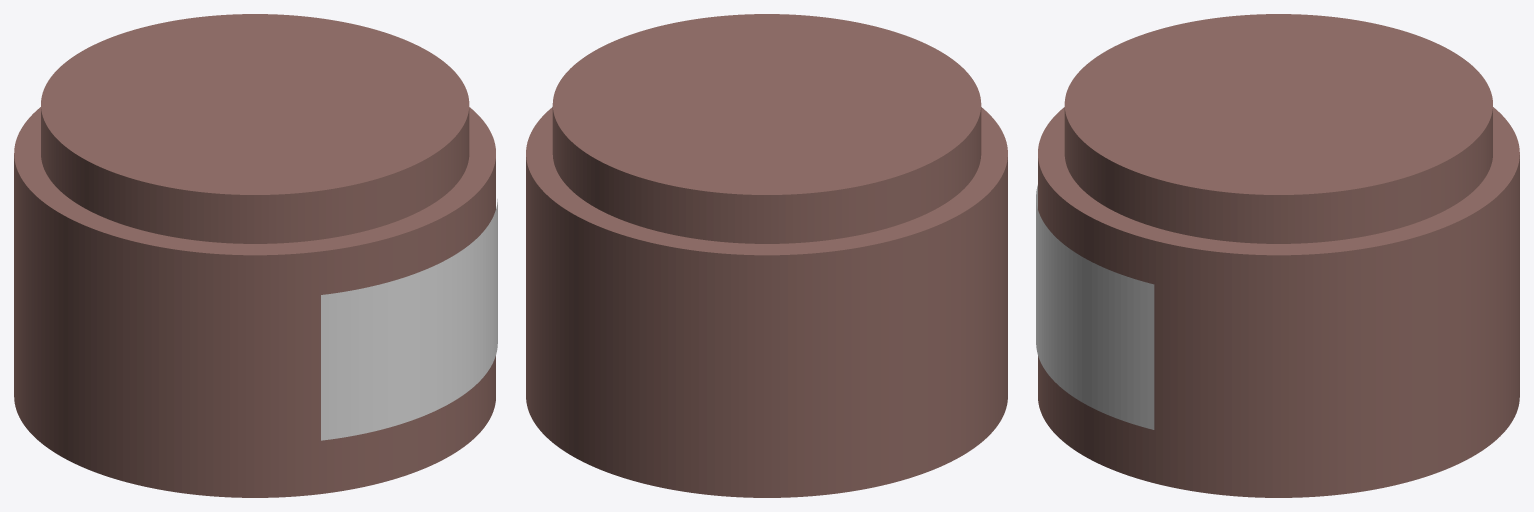
File: cream.fbx
3 views of the same model, side by side, from view 1: azimuth 30°, elevation 25°; view 2: azimuth 150°, elevation 25°; view 3: azimuth 270°, elevation 25° (orthographic).
Visible parts, largest first — view 1: Cylinder.001, Cylinder; view 2: Cylinder.001; view 3: Cylinder.001, Cylinder.
Boxes of the visible parts, left/top/right/bottom form: Cylinder.001: left=14, top=14, right=495, bottom=497; Cylinder: left=321, top=199, right=497, bottom=440; Cylinder.001: left=526, top=14, right=1007, bottom=497; Cylinder.001: left=1038, top=14, right=1519, bottom=497; Cylinder: left=1036, top=185, right=1154, bottom=429.
Size of the model in its own units: 18 by 12.25 by 18.07.
